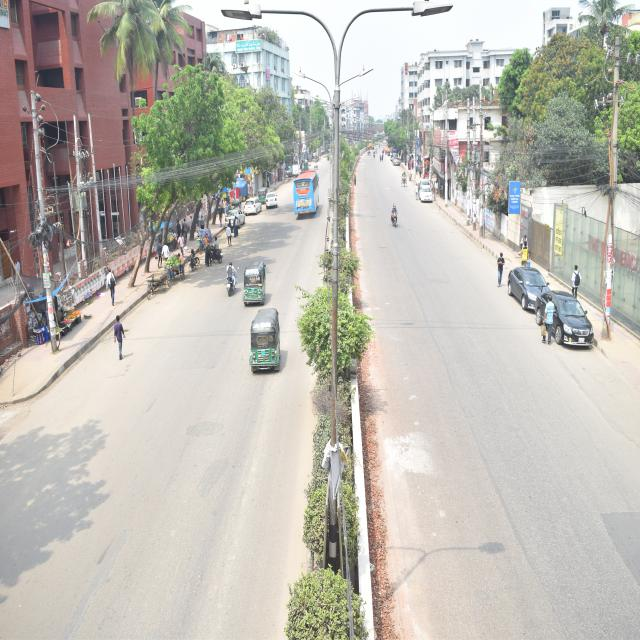bus: (288, 161, 328, 228)
car: (480, 224, 573, 334), (528, 274, 598, 364), (417, 180, 448, 221), (218, 196, 252, 232), (257, 178, 287, 213), (242, 191, 264, 226), (417, 168, 434, 200)
motorbike: (178, 227, 206, 282), (218, 252, 242, 314), (390, 188, 410, 254), (210, 230, 227, 270)
pickup-van: (287, 156, 305, 177)
